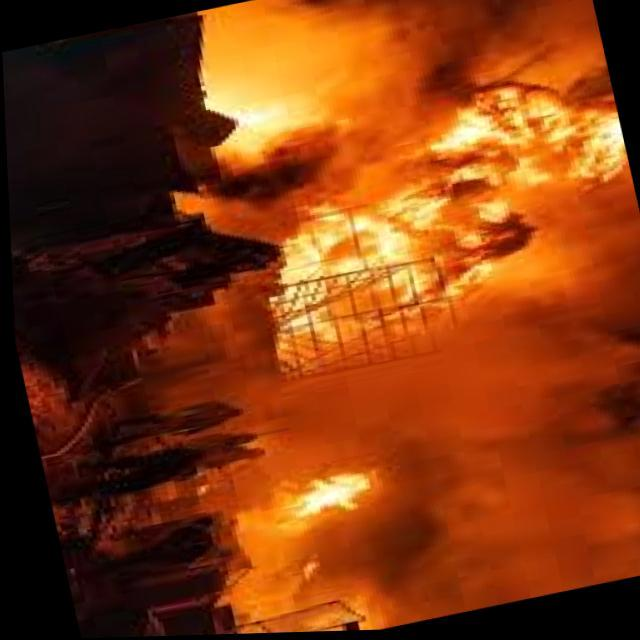fire: (216, 61, 640, 362), (186, 2, 402, 178), (247, 432, 431, 562)
